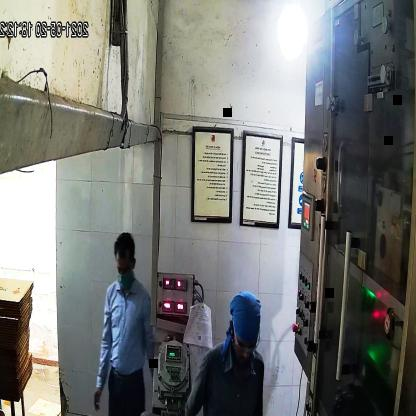goggles: (231, 329, 262, 355)
no_goggles: (115, 256, 137, 276)
